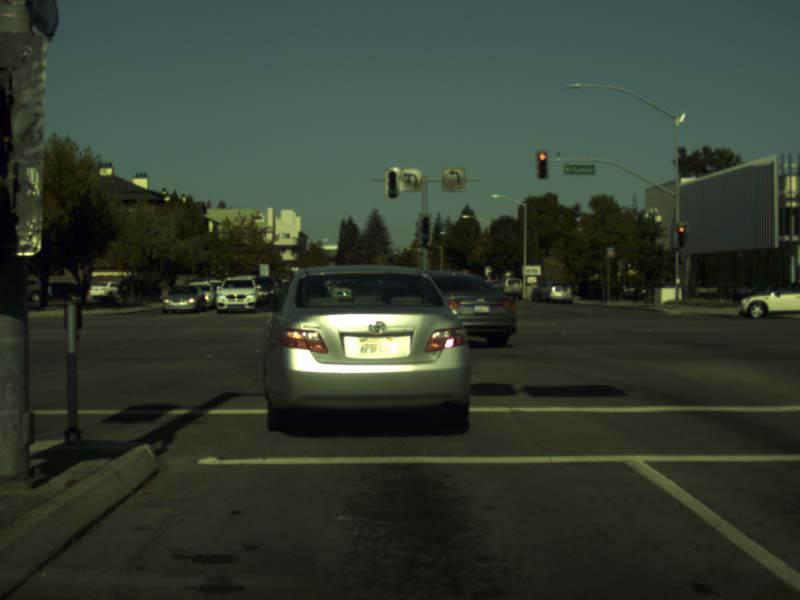Green: (388, 169, 396, 199), (422, 216, 430, 242)
Red: (536, 151, 548, 179), (676, 224, 687, 247)
